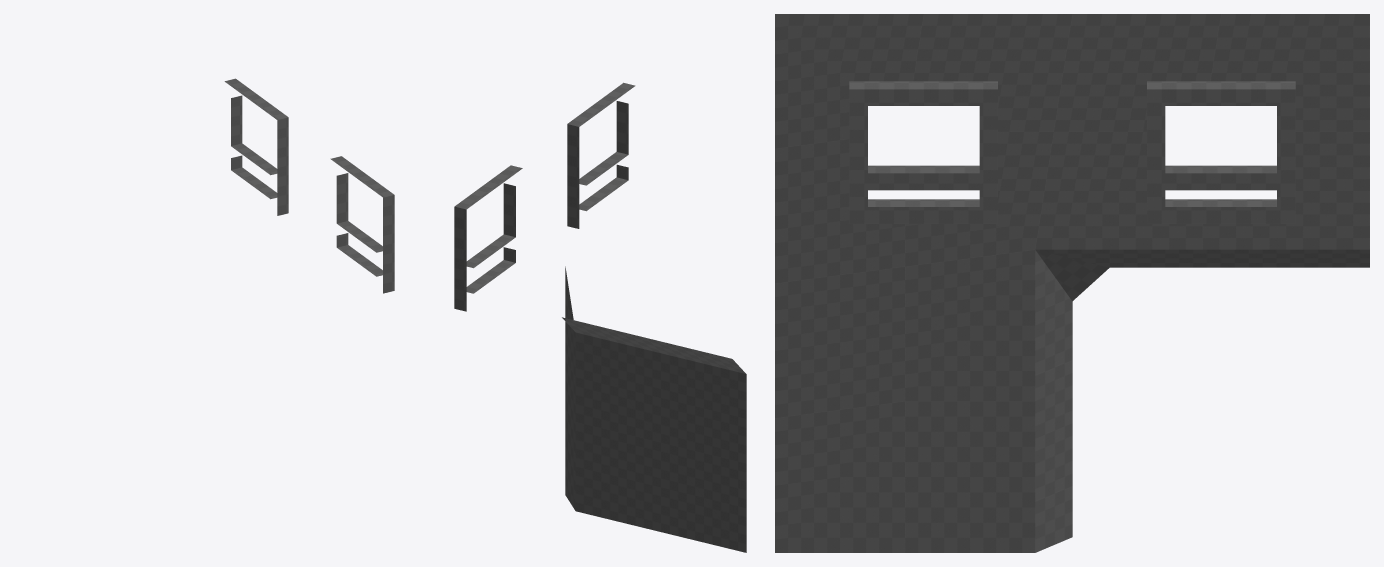
3 renders of one model, left to right at view 1: azimuth 30°, elevation 25°; view 2: azimuth 150°, elevation 25°; view 3: azimuth 270°, elevation 25°, orthographic. The views are drawn at different scales.
Visible parts, largest first — view 1: CubeDownBackRight4V2; view 2: CubeDownBackRight4V2; view 3: CubeDownBackRight4V2.
Part boxes in pixels (<box>): CubeDownBackRight4V2: <box>224,78,394,293</box>; CubeDownBackRight4V2: <box>454,82,746,552</box>; CubeDownBackRight4V2: <box>775,14,1369,552</box>.
Bounding box in the file's own units: 2.12 × 4 × 4.
Materials: 1 (1 with a texture image).
